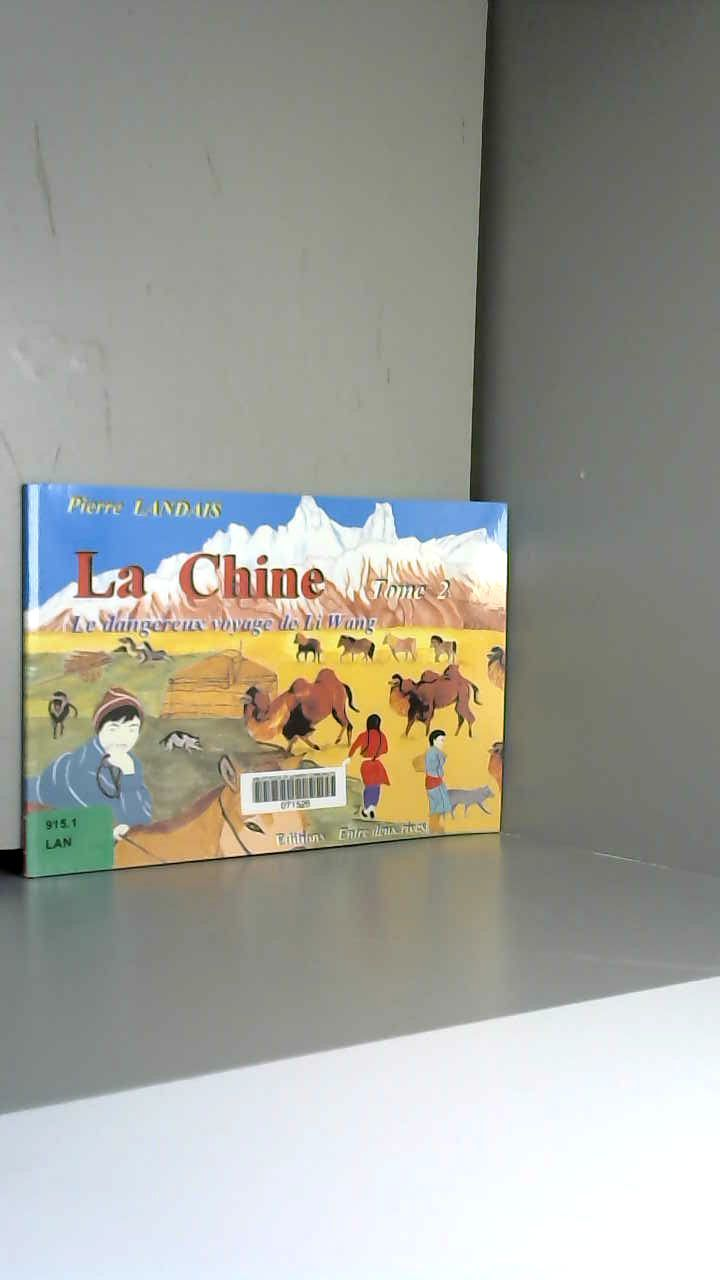book: (7, 472, 518, 891)
